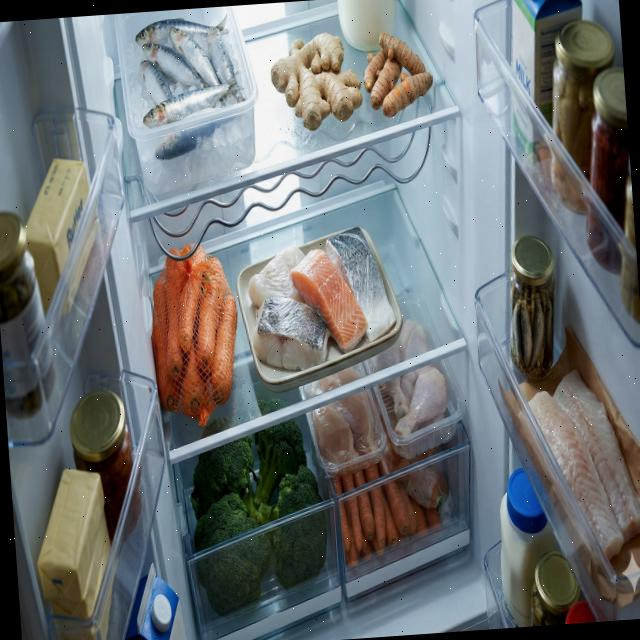brocolli: (184, 394, 332, 622)
carrot: (146, 242, 244, 422), (332, 451, 444, 567)
chicken: (366, 316, 449, 439), (304, 366, 378, 466)
fish: (515, 364, 640, 571), (244, 224, 399, 374), (134, 11, 248, 160)
ginger: (268, 29, 365, 132)
turmeric: (360, 28, 435, 120)
